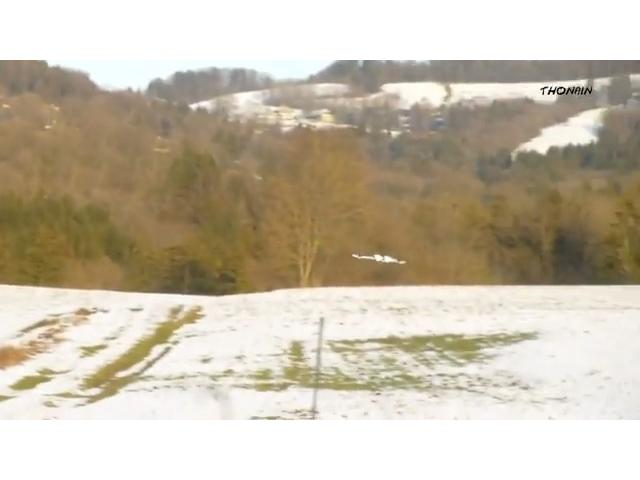Anti-Drone: (352, 254, 406, 264)
